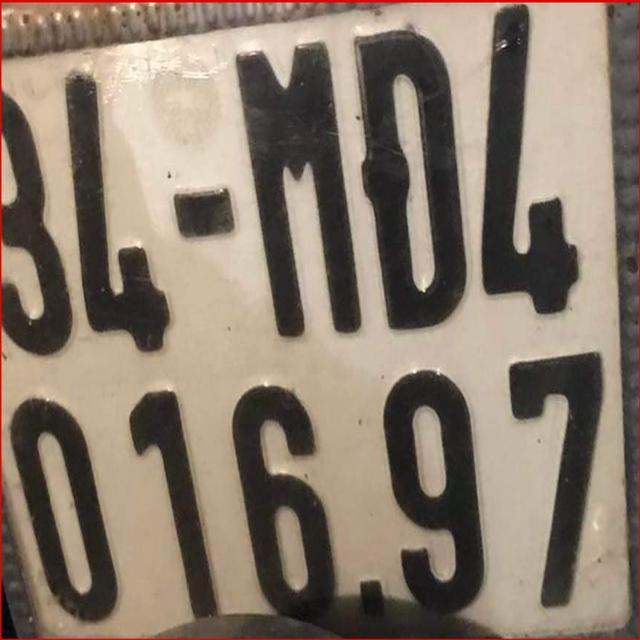0: (6, 388, 127, 629)
1: (127, 375, 227, 623)
4: (474, 2, 593, 322), (65, 59, 180, 364)
6: (230, 370, 342, 618)
7: (504, 338, 608, 612)
9: (376, 359, 494, 616)
D: (353, 22, 474, 341)
M: (235, 28, 358, 342)
